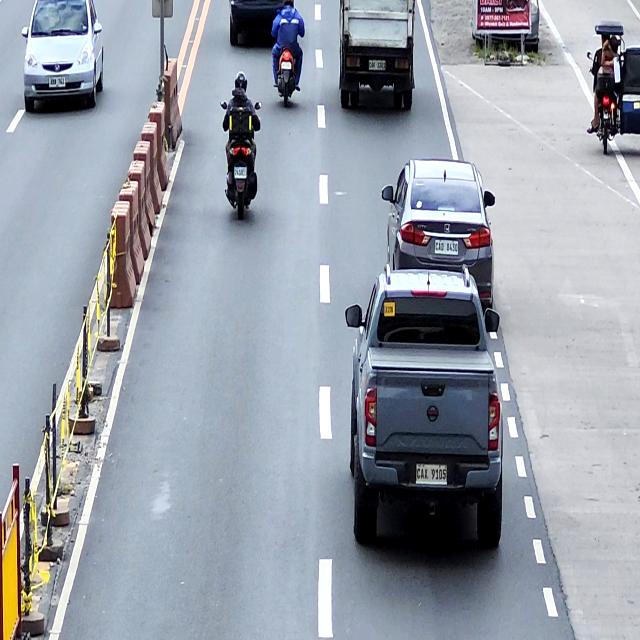Car: (344, 263, 504, 552), (380, 160, 496, 321), (21, 0, 104, 114)
License-Plate: (417, 464, 448, 484), (435, 240, 459, 256), (48, 76, 66, 88), (368, 60, 386, 71), (234, 166, 248, 178), (280, 61, 292, 70)
Motorcycle: (220, 100, 263, 220), (274, 38, 301, 106)
Tricycle: (586, 22, 640, 154)
Truck: (338, 0, 415, 113)
